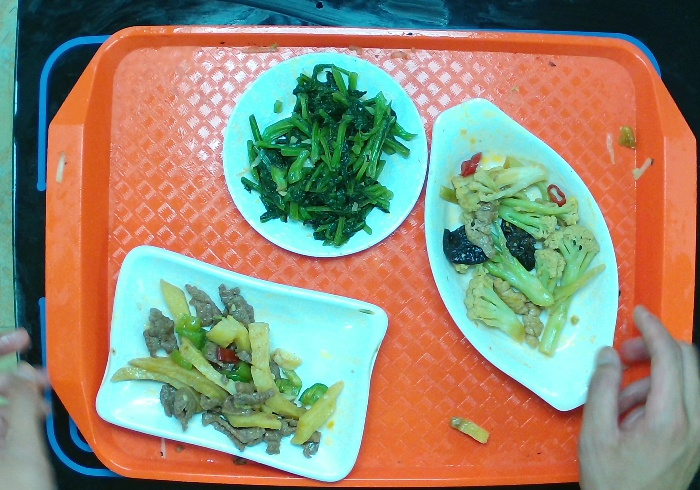RJxy-Si_Fang_Ao_Bian_Wan: (91, 238, 397, 490)
RJxy-Xiao_Yuan_Die: (213, 55, 432, 261)
RJxy-Yu_Pan: (422, 88, 622, 414)
